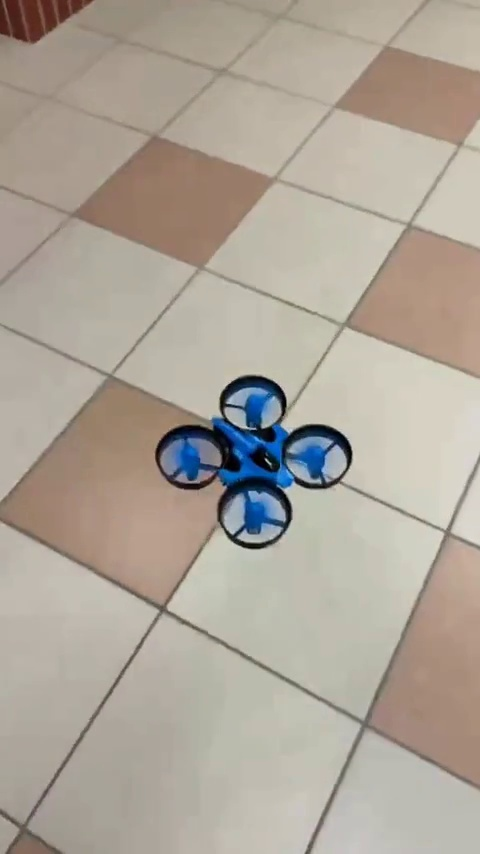drone: (150, 379, 358, 551)
